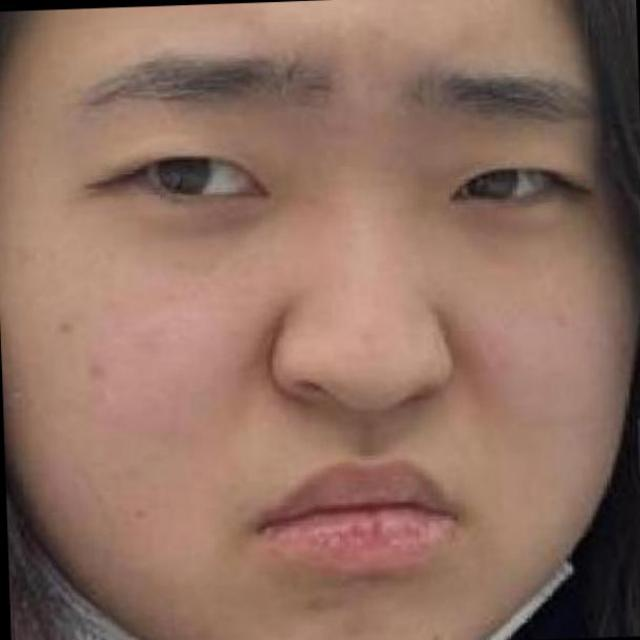Angry: (24, 34, 640, 636)
